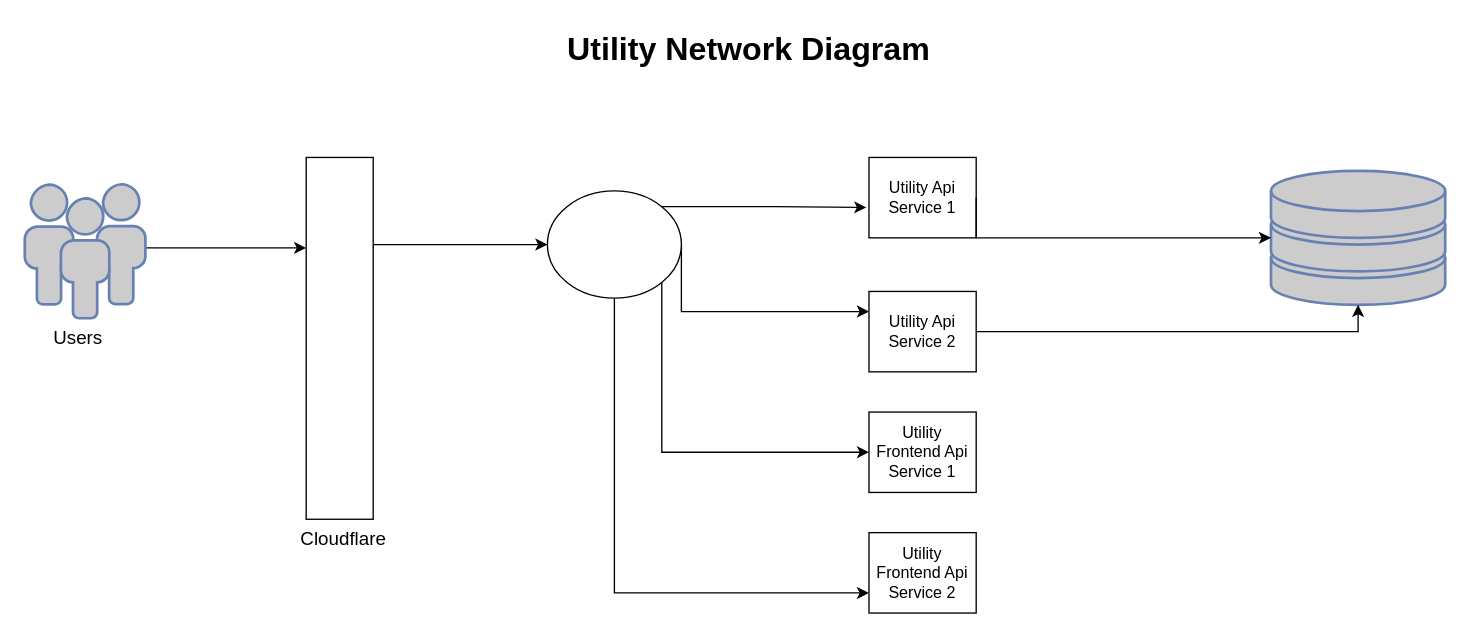
This 1469x637 diagram has some shape labels left out. The shapes that lost their labels are listed below. From the top down, each one's centre as x and y in pixels, then its label:
[613,244]: Nginx
[1357,237]: Card Database
